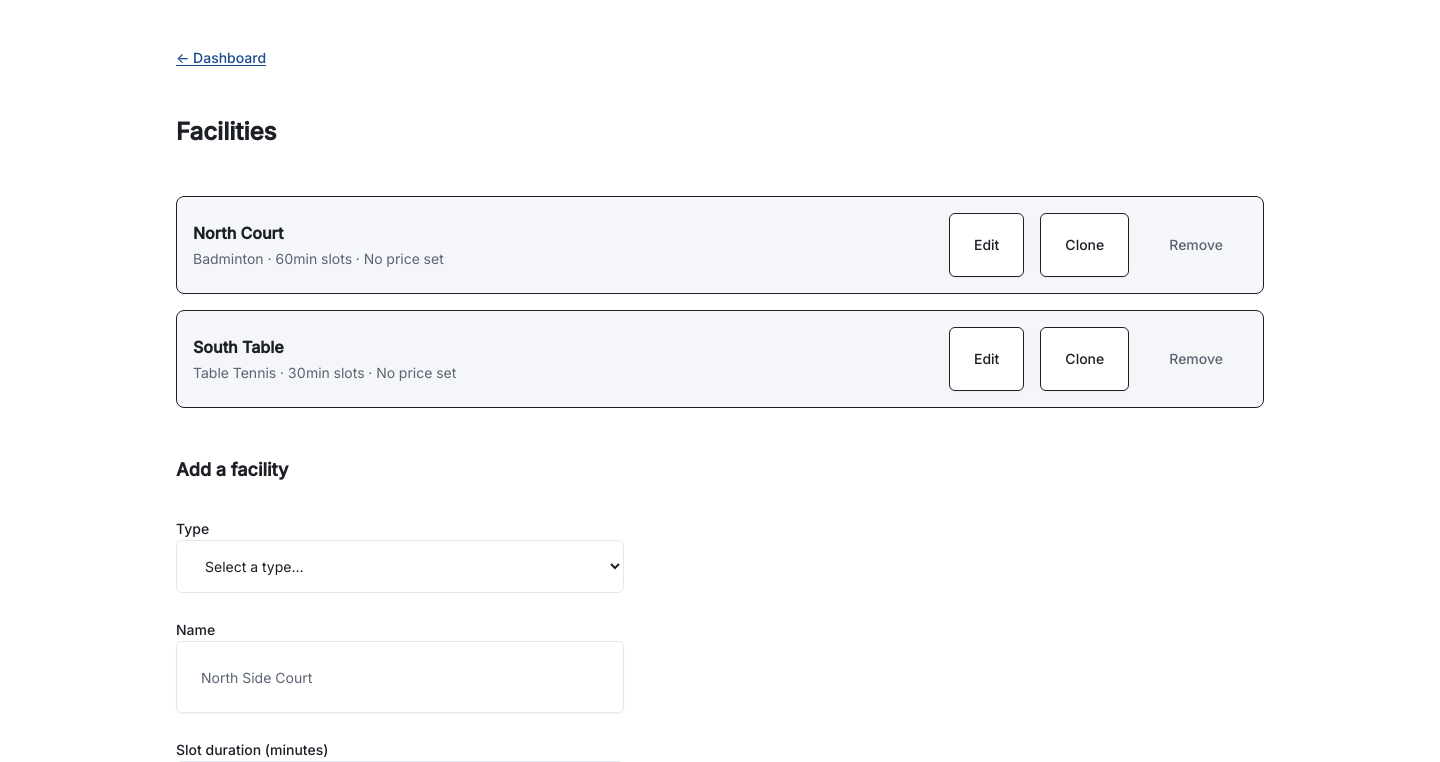
TenantFacilities › edit dialog shows facility B's schedule after switching from facility A (stale-state regression)
Open edit for North Court (A)
What coordinates should you click on to do the following:
click the button "Edit" in the row of "60"
I would click on:
 (987, 245)
Its box is [949, 213, 1024, 277].
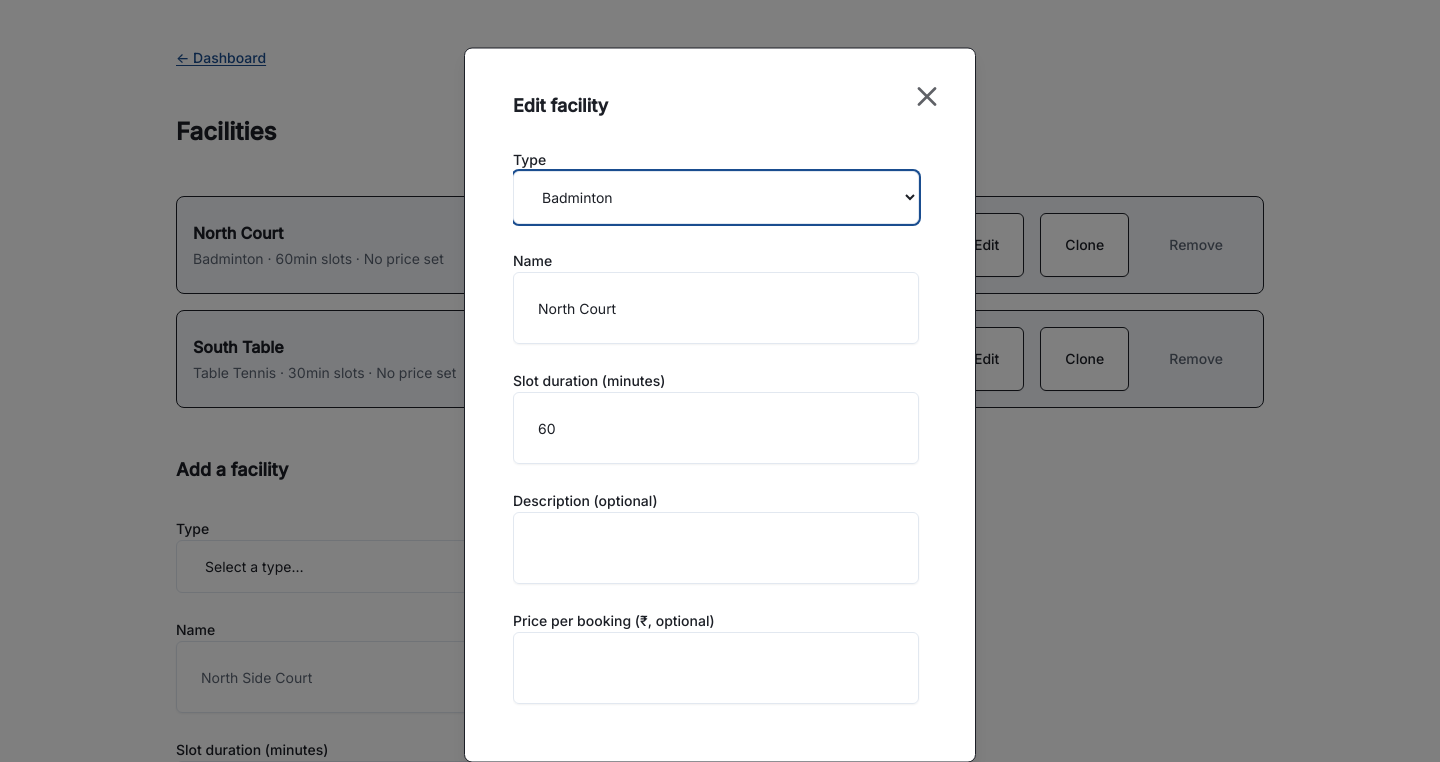
Check: the field showing "North Court" is shown, box [513, 272, 919, 344]
Close the dialog
What coordinates should you click on to do the following:
click the button named "close"
I would click on:
 (927, 96)
Its box is [911, 80, 943, 112].
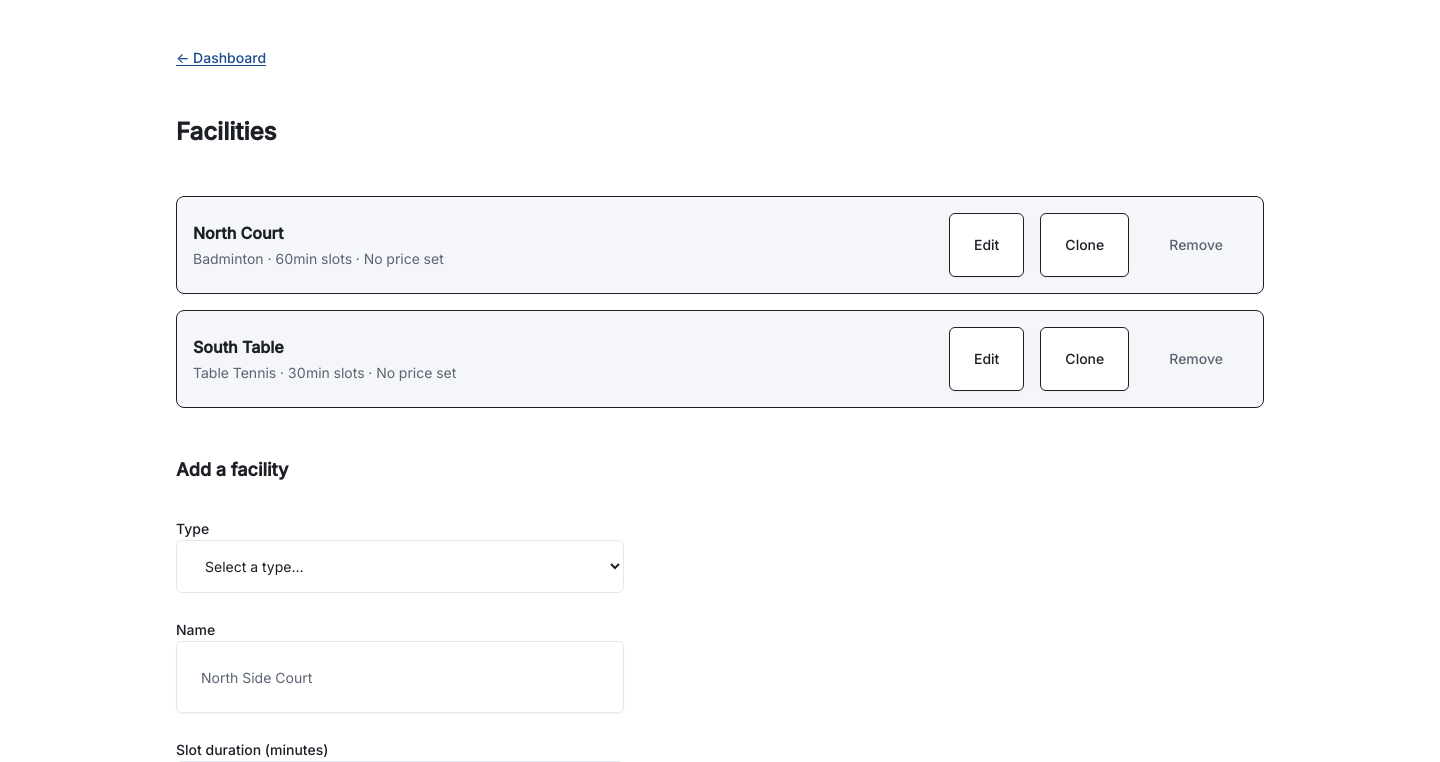
Open edit for South Table (B)
What coordinates should you click on to do the following:
click the button "Edit" in the row of "30"
I would click on:
 (987, 359)
Its box is [949, 327, 1024, 391].
(page scrolled)
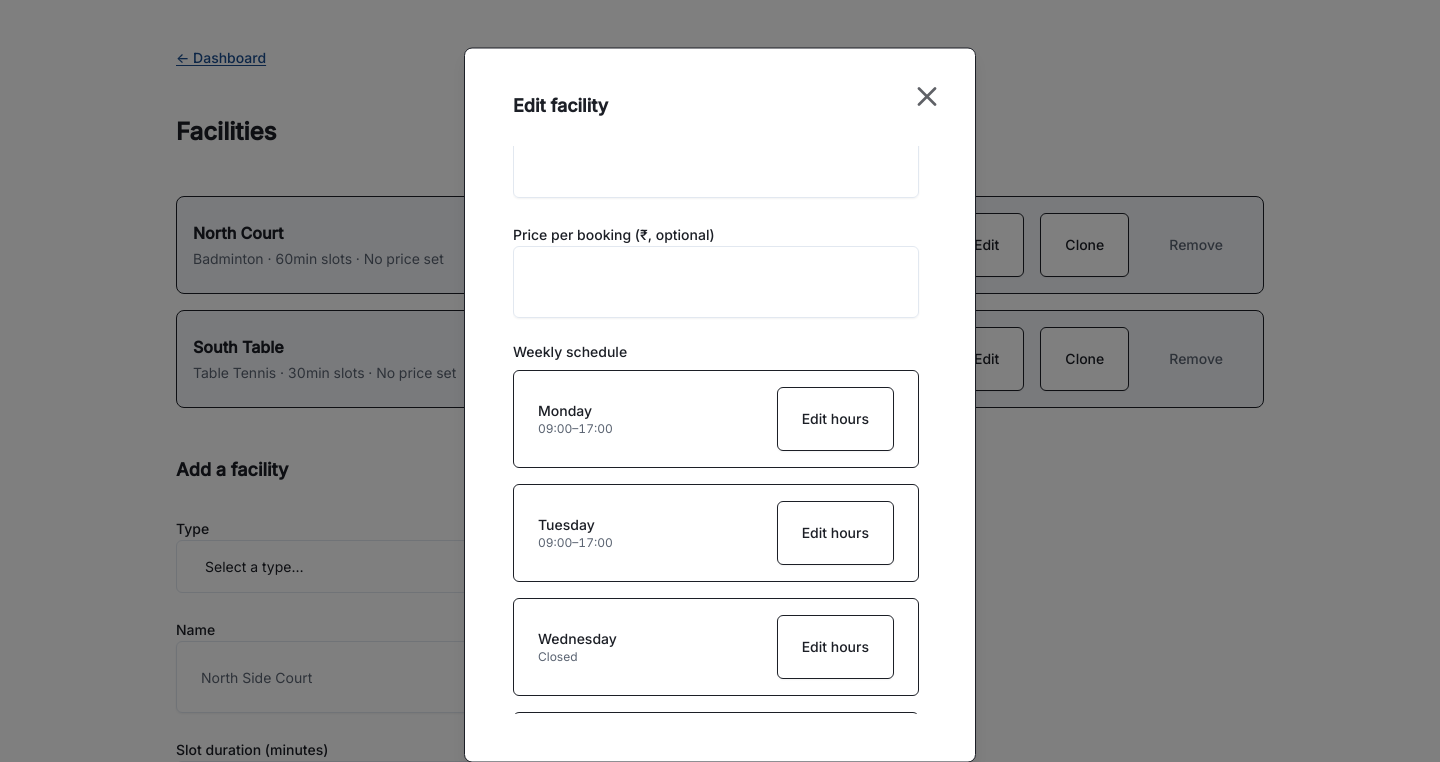
Check: the text "06:00–22:00" is not shown
Check: the 1st text "09:00–17:00" is shown, box [538, 422, 613, 438]
